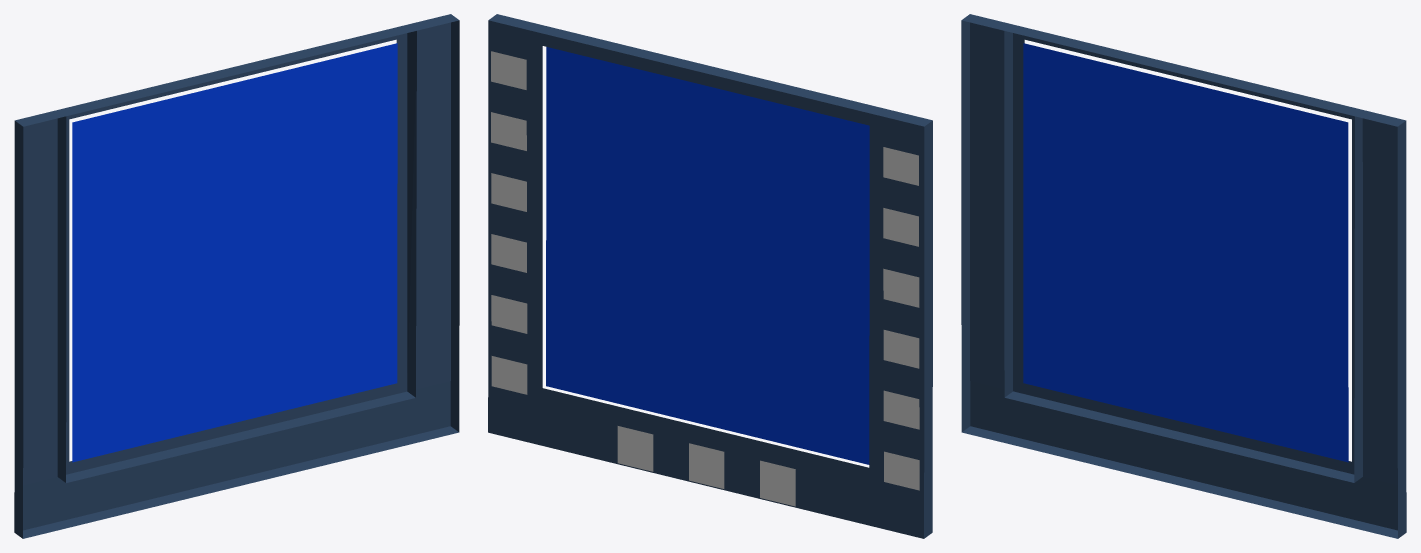
File: buttonDisplay.fbx
3 renders of one model, left to right at view 1: azimuth 30°, elevation 25°; view 2: azimuth 150°, elevation 25°; view 3: azimuth 330°, elevation 25°, orthographic.
Visible parts, largest first — view 1: lcd, displayFrame; view 2: lcd, displayFrame, button7, button9, button8, buttonC, buttonD, button5, buttonE, button6, buttonA, buttonF (+5 smaller); view 3: lcd, displayFrame.
Part boxes in pixels (bbox=[...]): lcd: bbox=[72, 43, 397, 462]; displayFrame: bbox=[14, 14, 459, 538]; lcd: bbox=[546, 47, 869, 464]; displayFrame: bbox=[488, 14, 932, 538]; button7: bbox=[617, 426, 653, 471]; button9: bbox=[760, 460, 795, 506]; button8: bbox=[689, 443, 724, 488]; buttonC: bbox=[883, 268, 919, 307]; buttonD: bbox=[883, 330, 919, 368]; button5: bbox=[491, 295, 527, 333]; buttonE: bbox=[883, 390, 919, 429]; button6: bbox=[491, 356, 527, 394]; buttonA: bbox=[883, 147, 918, 185]; buttonF: bbox=[884, 451, 919, 490]; lcd: bbox=[1023, 43, 1348, 462]; displayFrame: bbox=[961, 14, 1406, 538].
Size of the model in its own units: 295 by 266 by 12.25.
